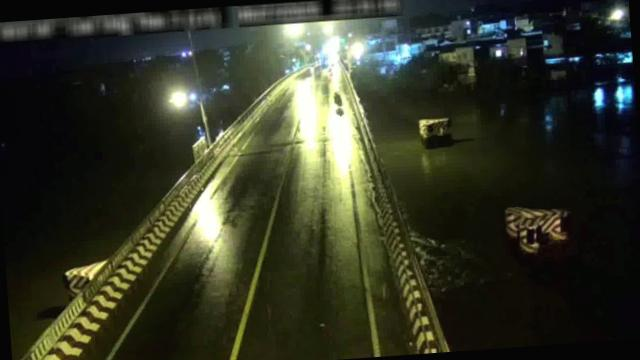Bike: (331, 90, 344, 107)
